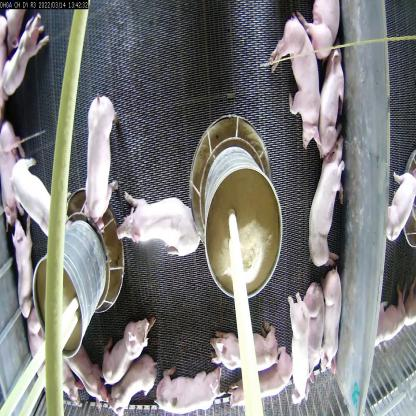Pig: (270, 17, 326, 154), (119, 188, 199, 263), (78, 93, 118, 228), (308, 136, 346, 272), (10, 146, 55, 242), (98, 313, 154, 385), (231, 349, 293, 410), (2, 16, 49, 94), (212, 328, 284, 377), (316, 48, 346, 164), (158, 368, 225, 415), (298, 282, 325, 396), (287, 298, 314, 410), (320, 271, 341, 376), (113, 356, 156, 407), (12, 221, 32, 320)
